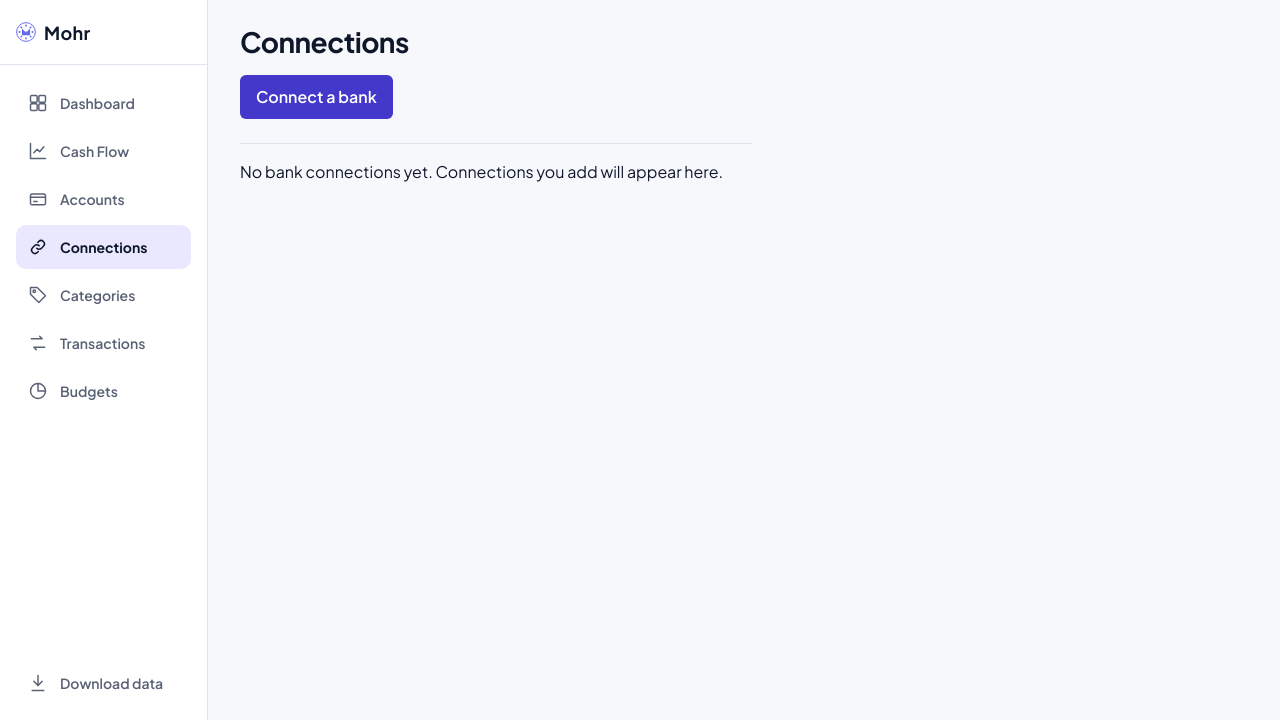
connect bank button states › announces preparation with a status region while the link-token request is pending
Expected: the text "No bank connections yet" is shown, x1=240 y1=161 x2=723 y2=182
Click the button "Connect a bank" at x=316, y=97, box x1=240 y1=75 x2=393 y2=119
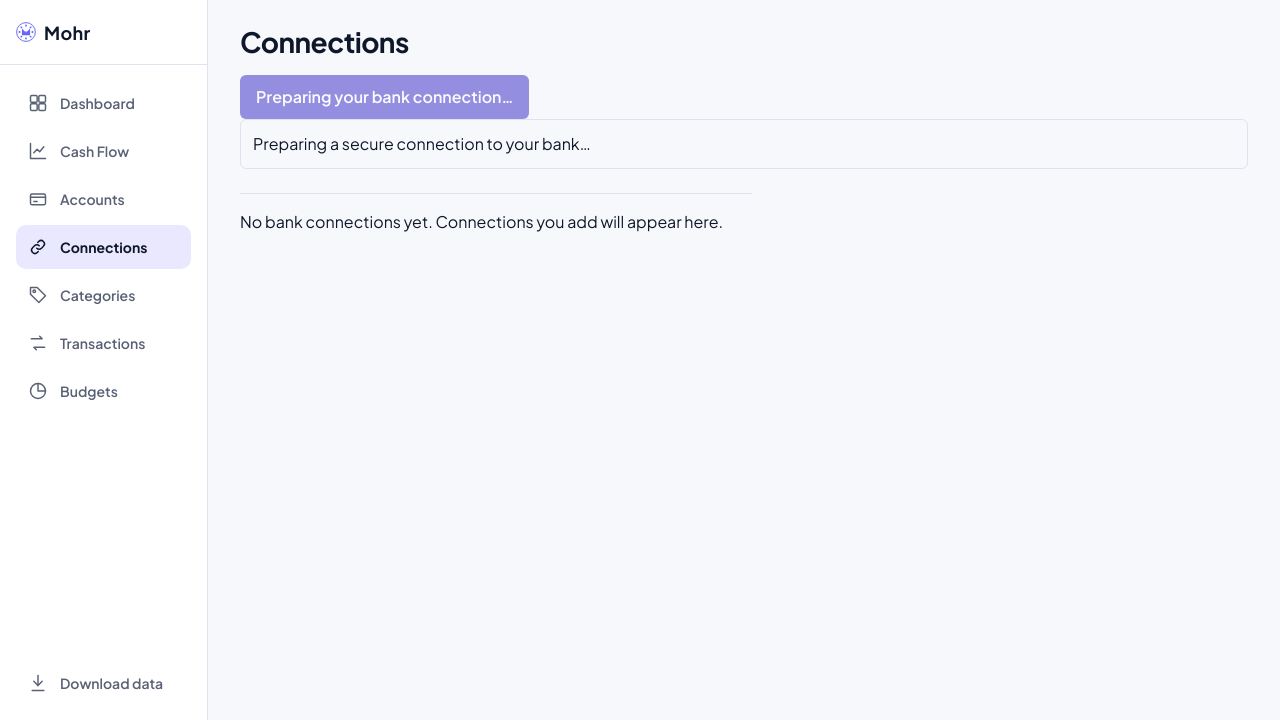
Now the message shows "Preparing", box x1=253 y1=133 x2=591 y2=154
